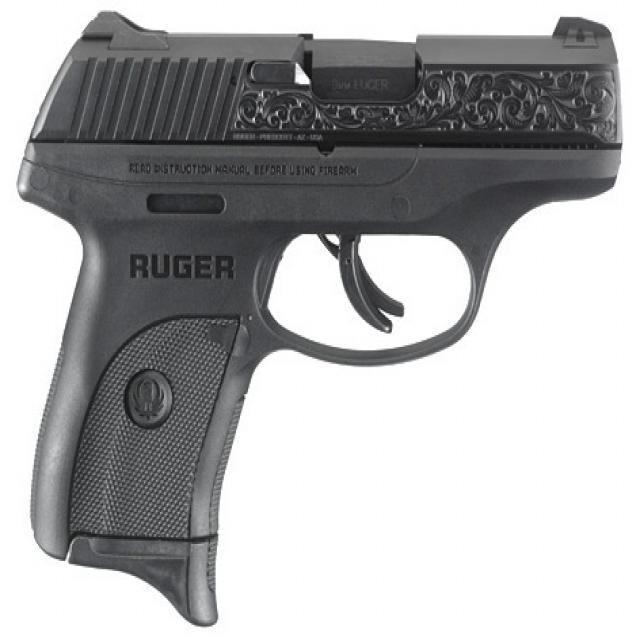gun-knife-thesis - v11 Yolov5 augmented: (9, 15, 628, 615)
